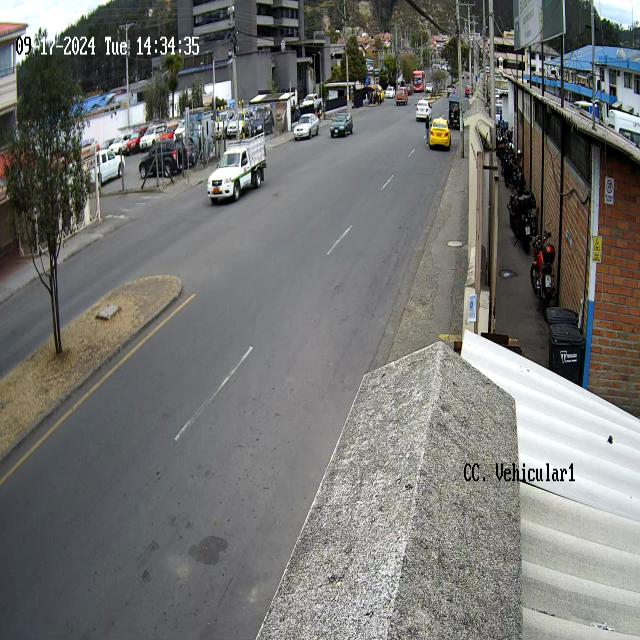CMT: (208, 133, 267, 206)
SED: (325, 109, 356, 138)
